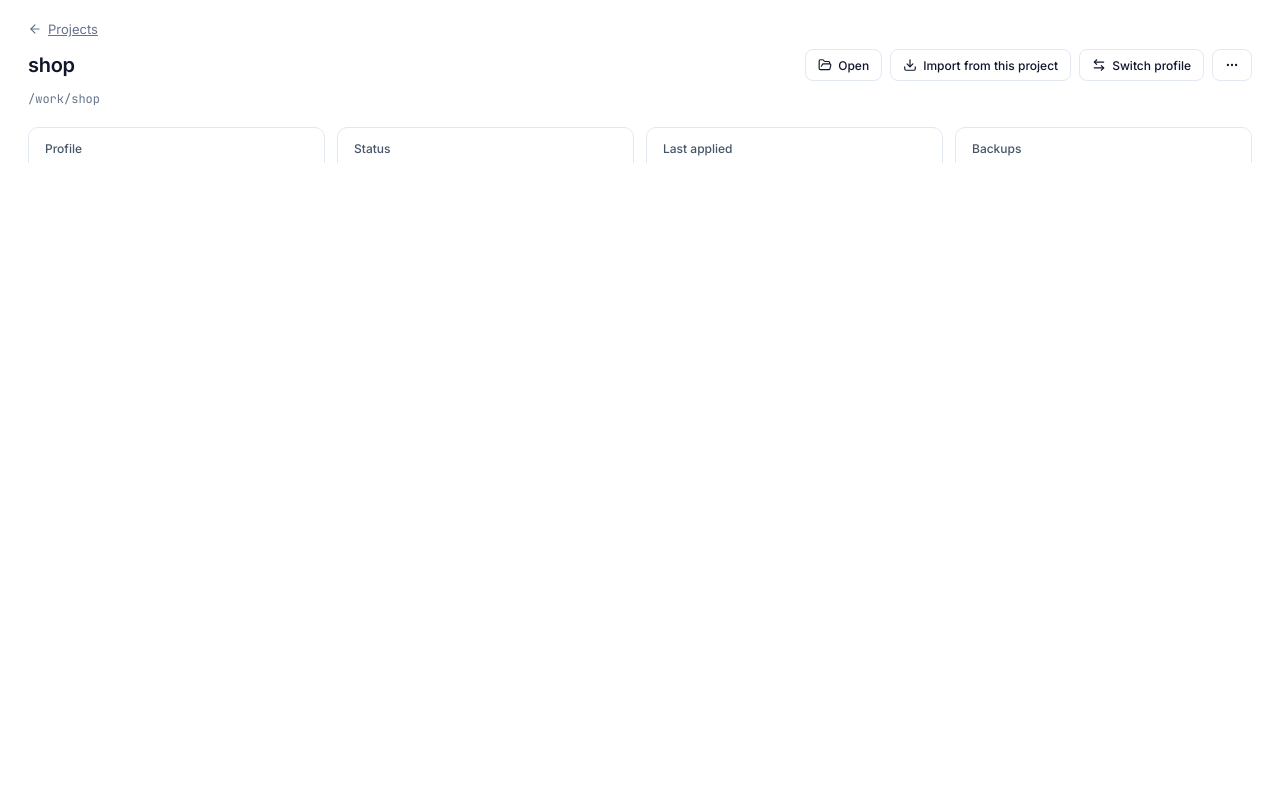
Scenario: Project detail › toasts when opening fails, and the toast can be dismissed
The width and height of the screenshot is (1280, 800).
Click the button "Open" at (844, 65), box [805, 49, 882, 81]
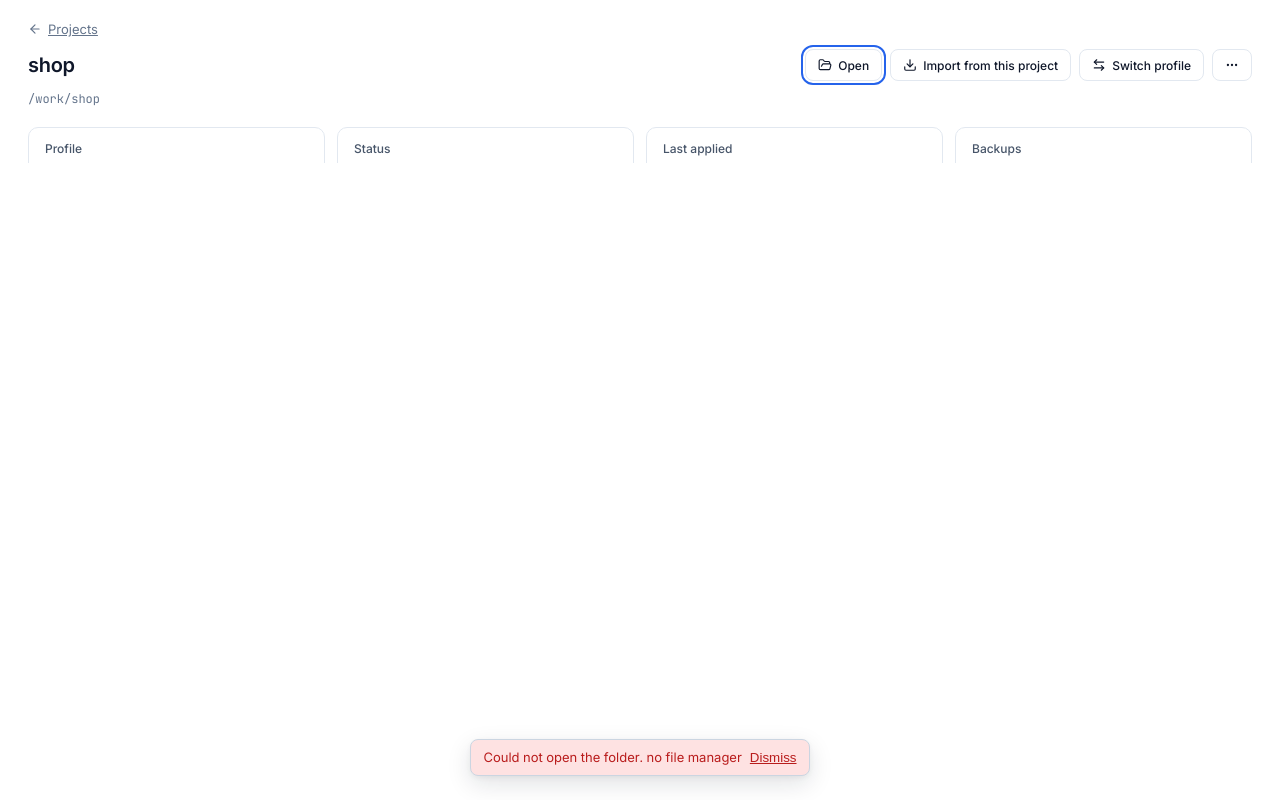
Now the message shows "no file manager", box [484, 749, 742, 765]
Click the button "Dismiss" at (773, 758), box [750, 750, 797, 765]
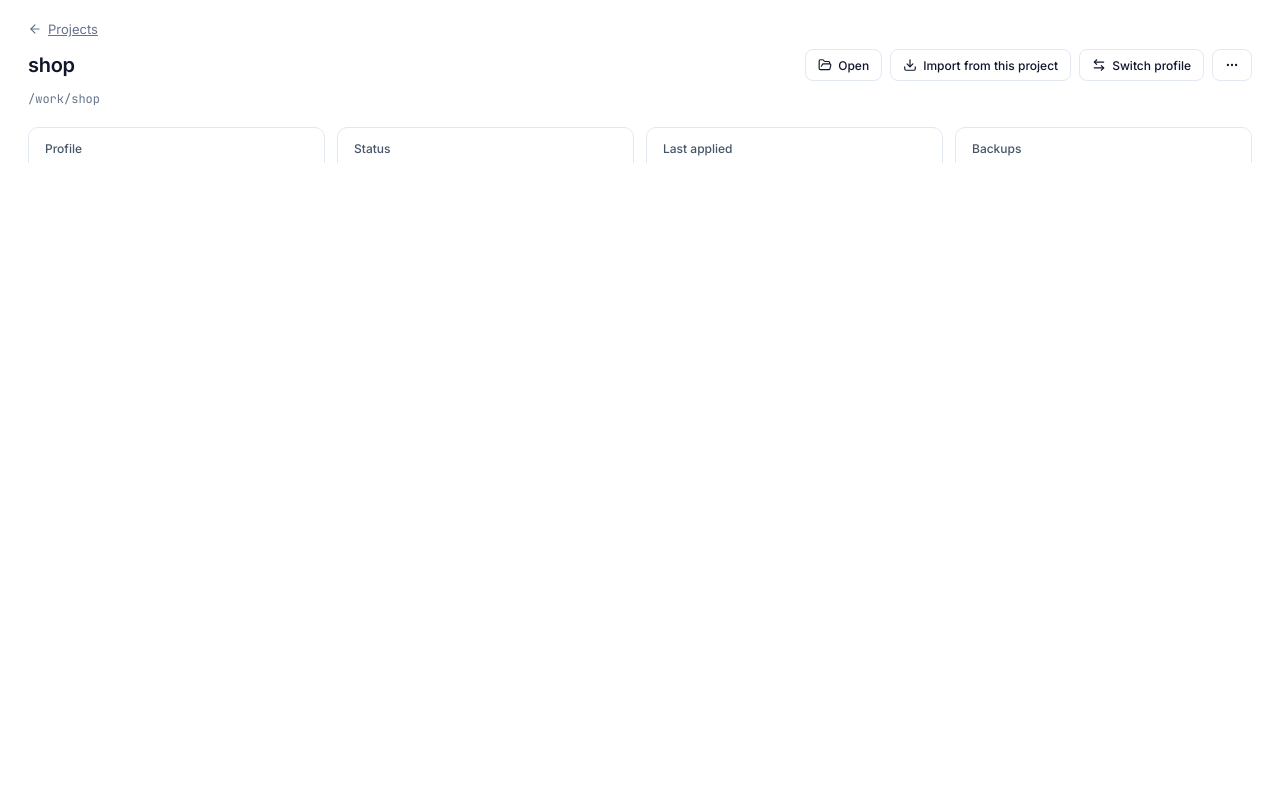
Now the message "Could not open the folder. no file manager Dismiss" is gone
